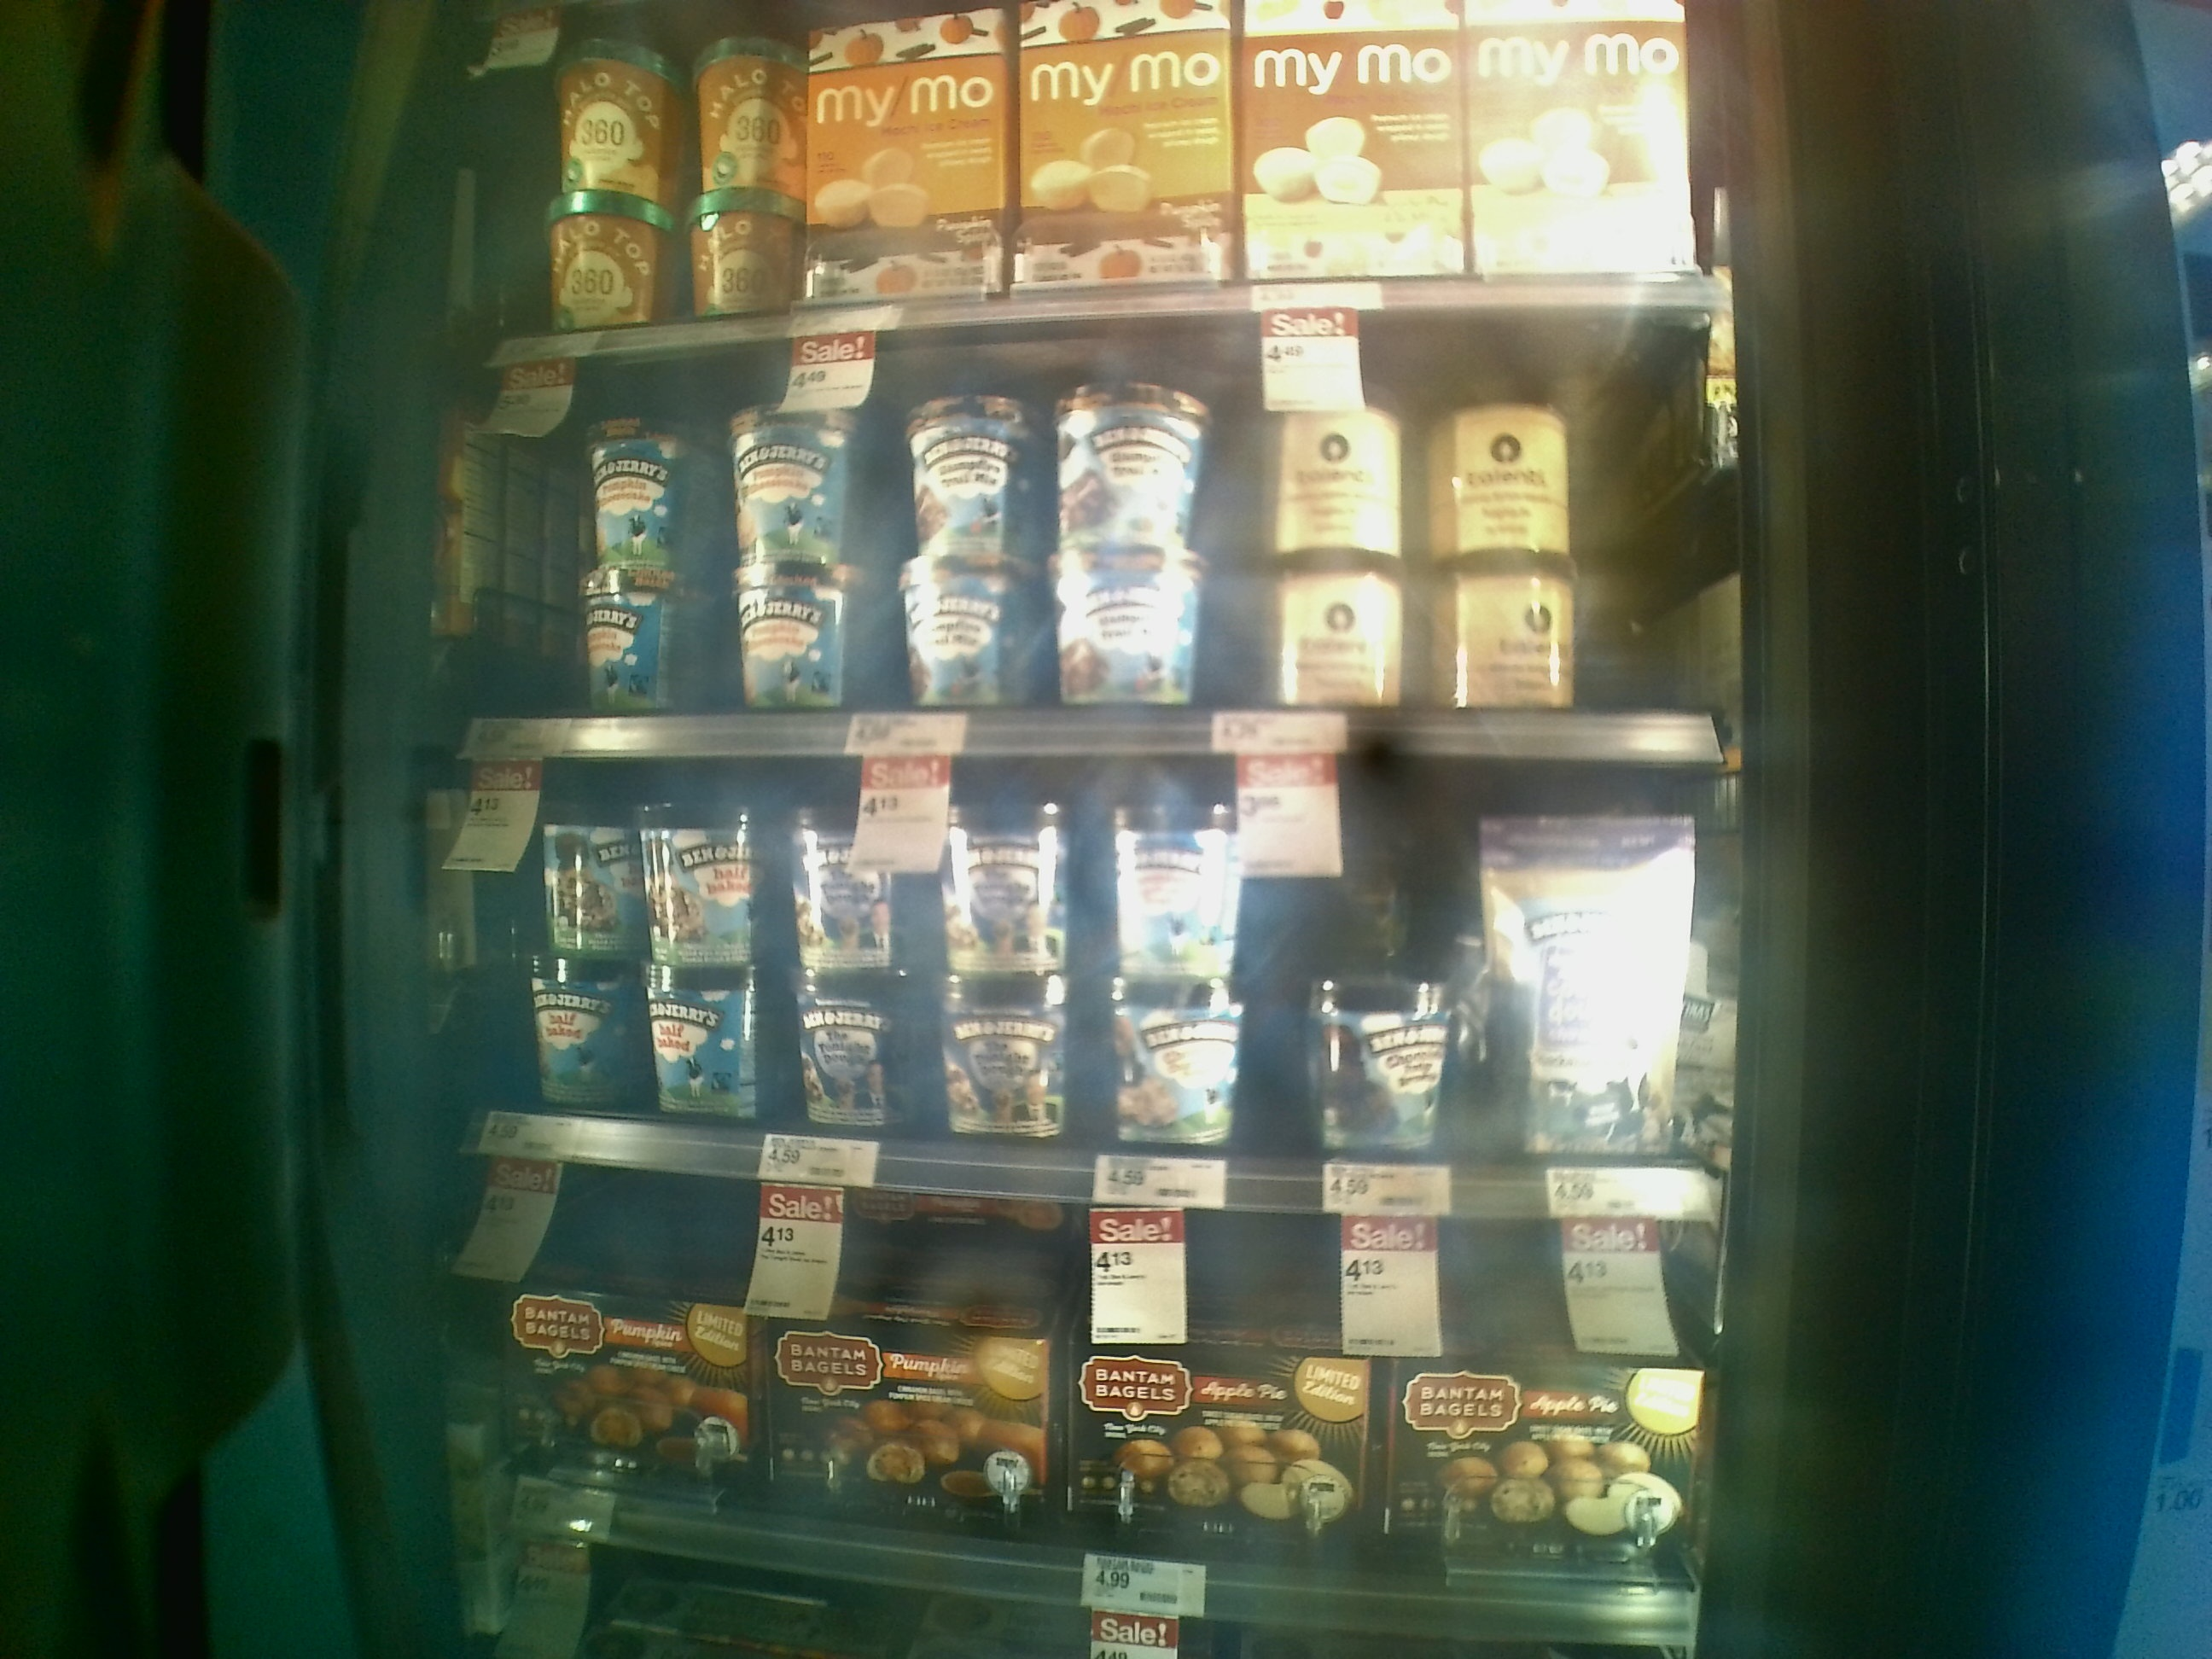shelf: (456, 1154, 1705, 1652), (409, 755, 1716, 1213), (430, 354, 1740, 758)
